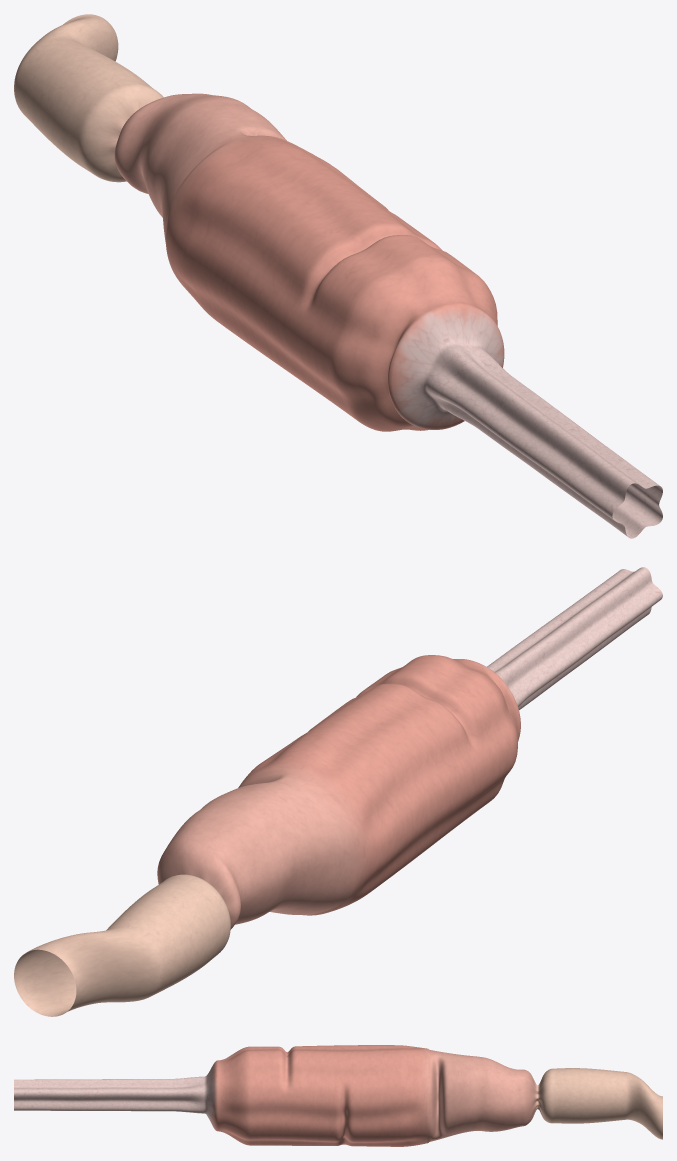
The model's file is tract.fbx.
The picture shows the model from 3 angles, top to bottom: view 1: azimuth 30°, elevation 25°; view 2: azimuth 150°, elevation 25°; view 3: azimuth 270°, elevation 25°; orthographic projection. The views are drawn at different scales.
Visible parts, largest first — view 1: Tract; view 2: Tract; view 3: Tract.
Boxes of the visible parts, x1,y1,x2,y2 form: Tract: [14, 14, 662, 538]; Tract: [14, 567, 662, 1016]; Tract: [14, 1045, 662, 1146].
Bounding box in the file's own units: 3.86 × 3.58 × 22.8.
